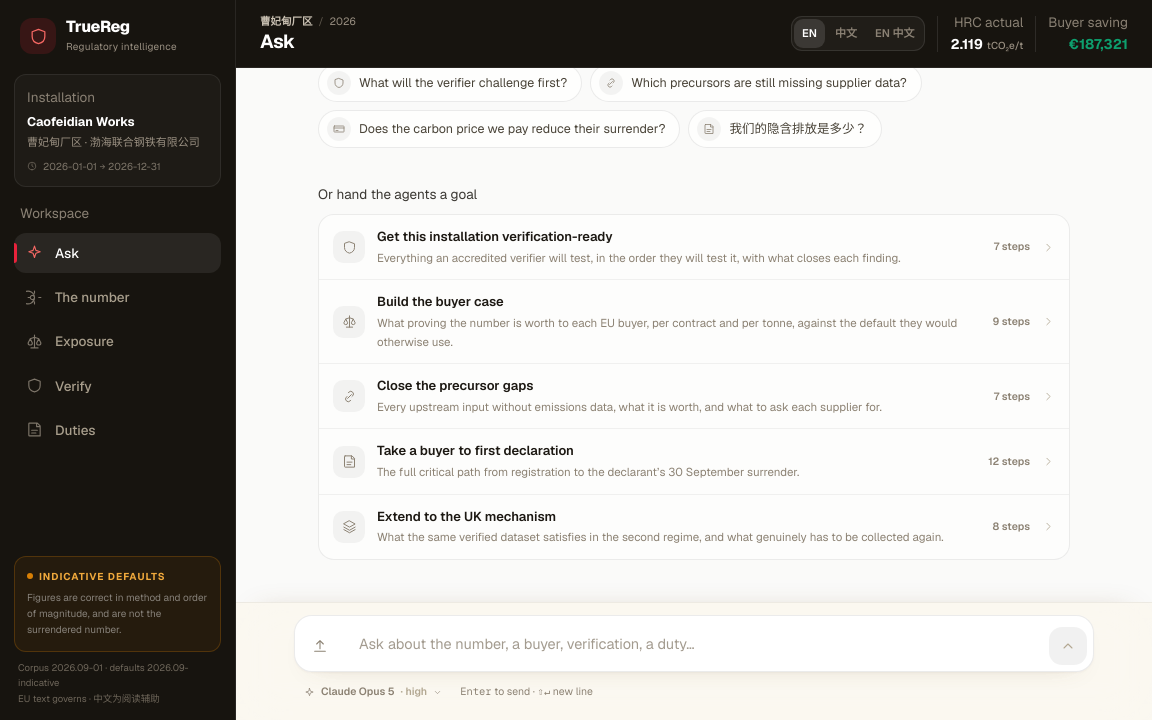
Test: the TrueReg workspace › runs a goal end to end and stops at the human
(page scrolled)
Click the text "Take a buyer to first declaration".
click(475, 451)  # box [377,442,574,460]
(page scrolled)
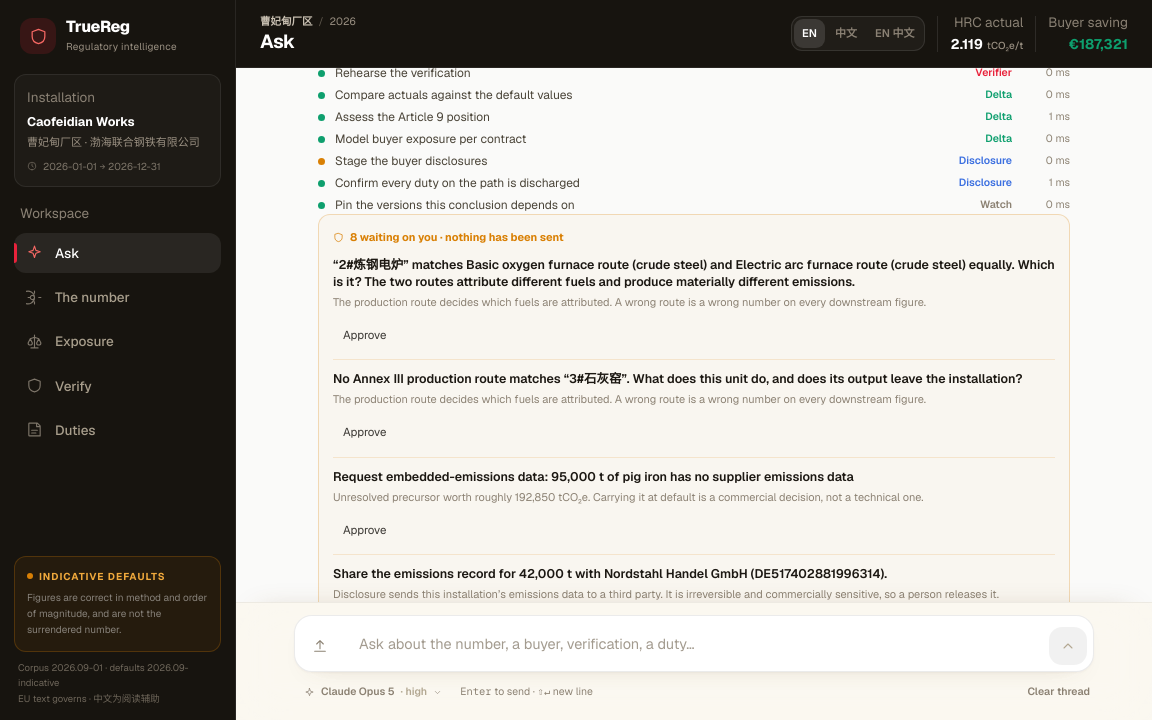
Result: the text "8 waiting on you · nothing has been sent" is shown at [333,230,564,244]
Result: the 1st button "Approve" is shown at [333,320,396,349]
